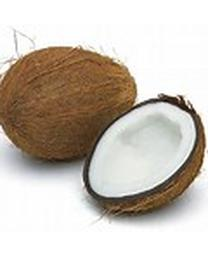coconut: (1, 47, 138, 163), (83, 95, 206, 216)
